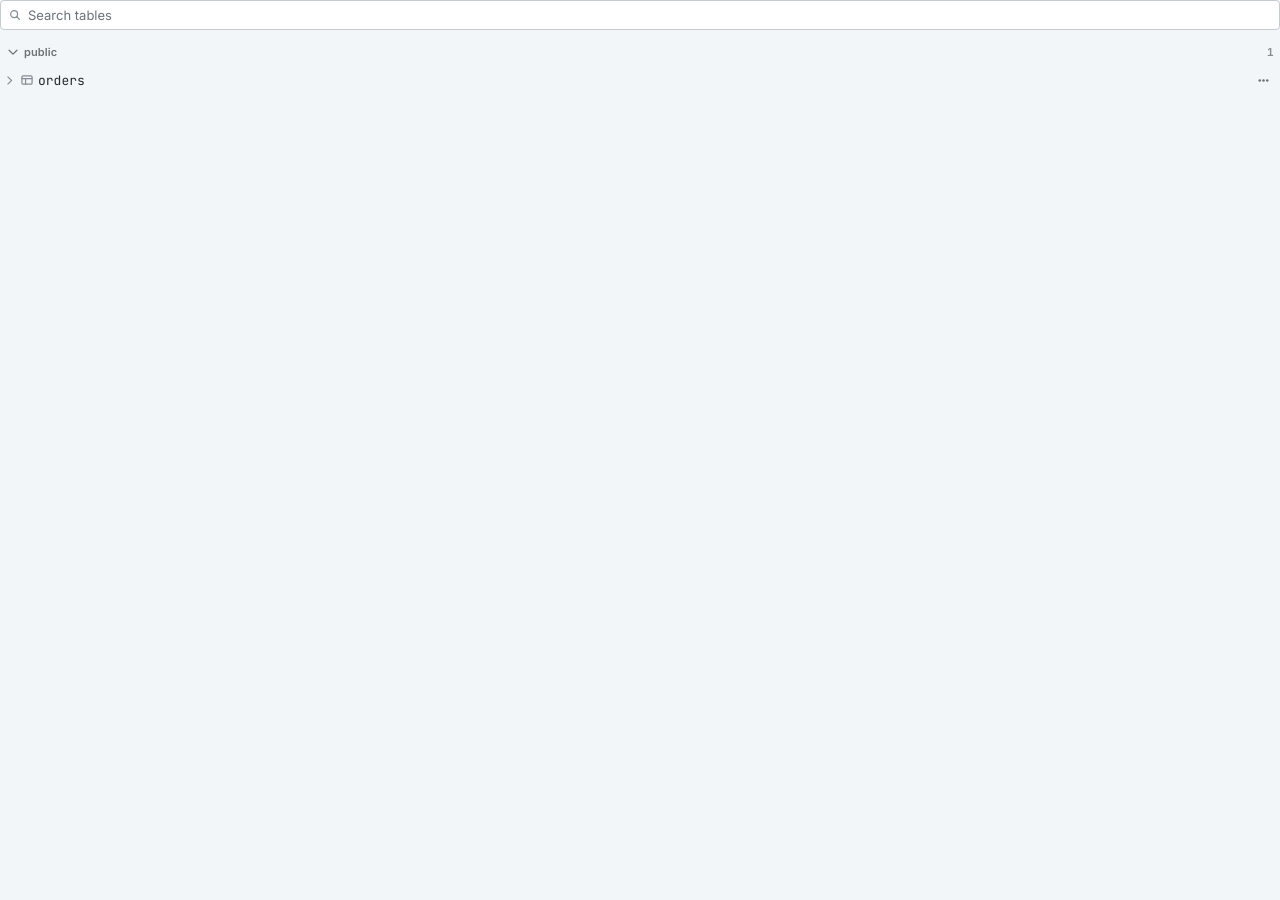
it: TableList › Export menuitem is enabled and opens the export sheet when all export callbacks are provided
The width and height of the screenshot is (1280, 900).
Click the button named "Table actions" at (1263, 80), box [1250,67,1276,93]
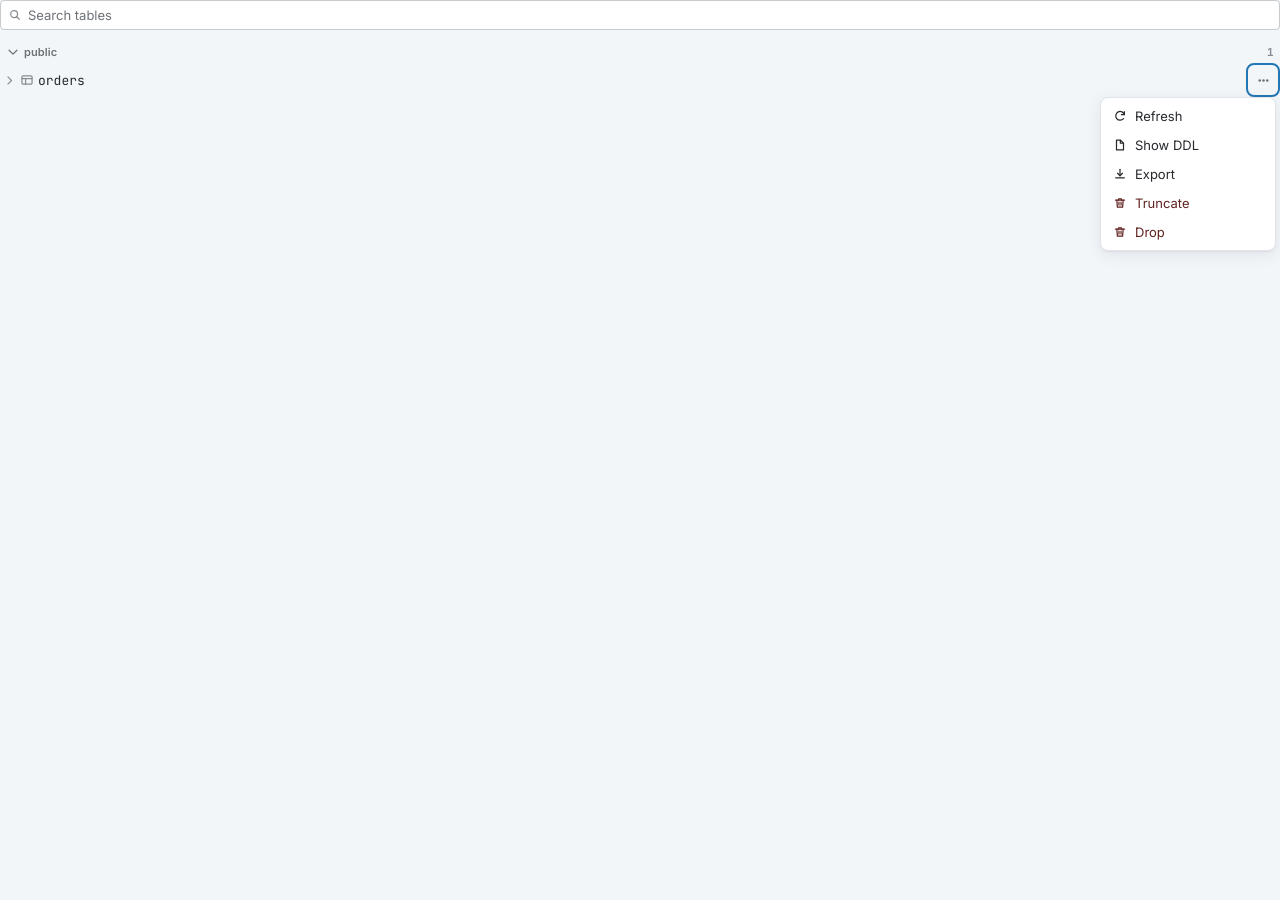
Result: the menu item "Export" is enabled
Click the menu item "Export" at (1188, 174), box [1105,160,1271,188]
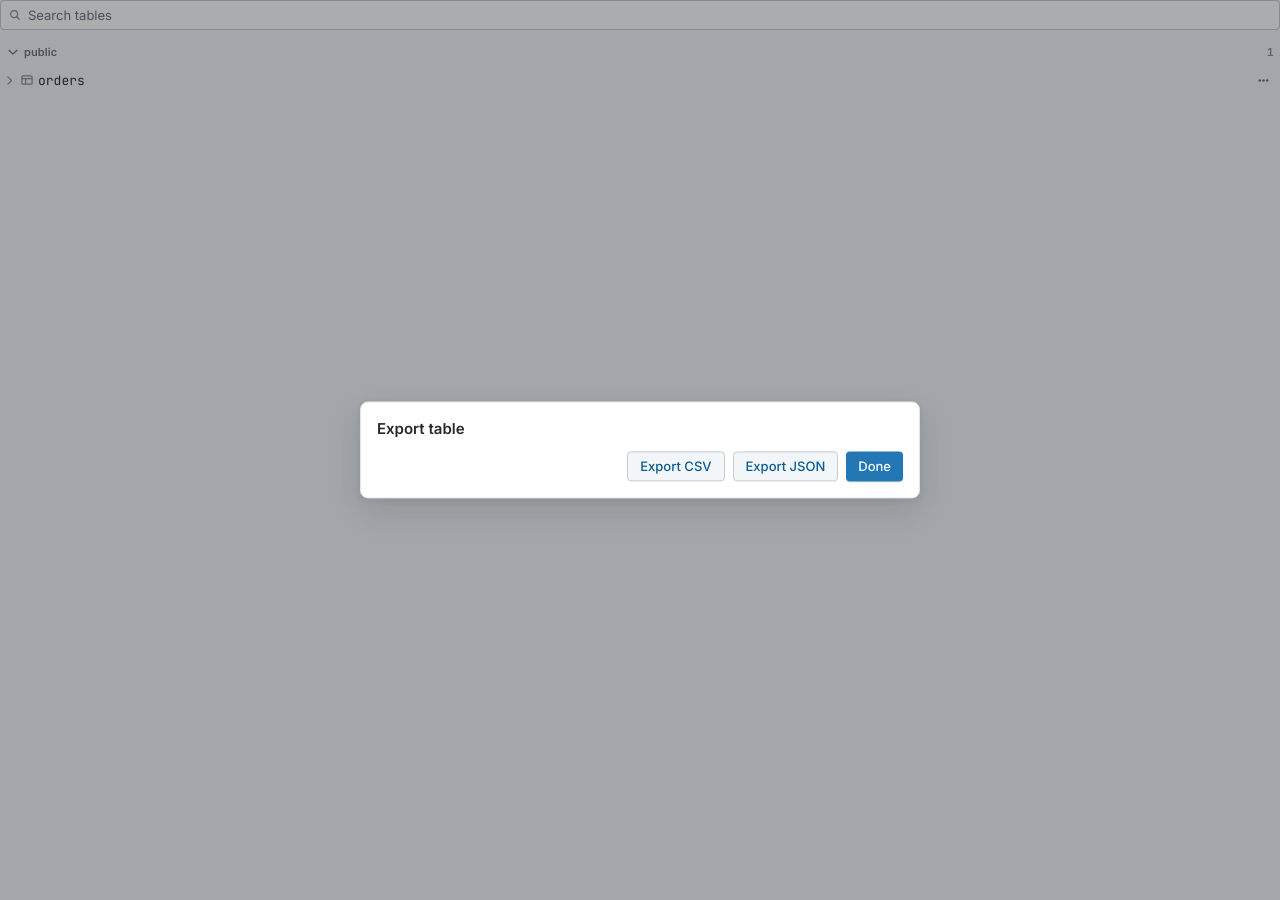
Result: the heading "Export table" is shown at [377,419,464,438]
